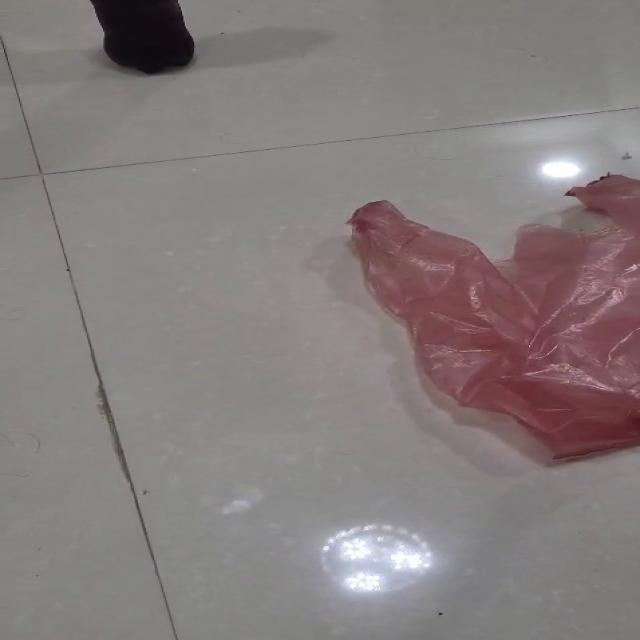plastic: (344, 172, 639, 460)
